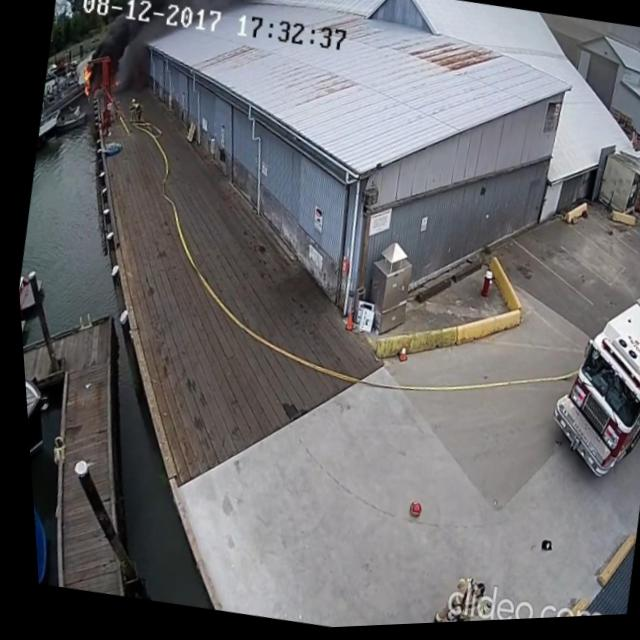fire: (74, 62, 100, 104)
